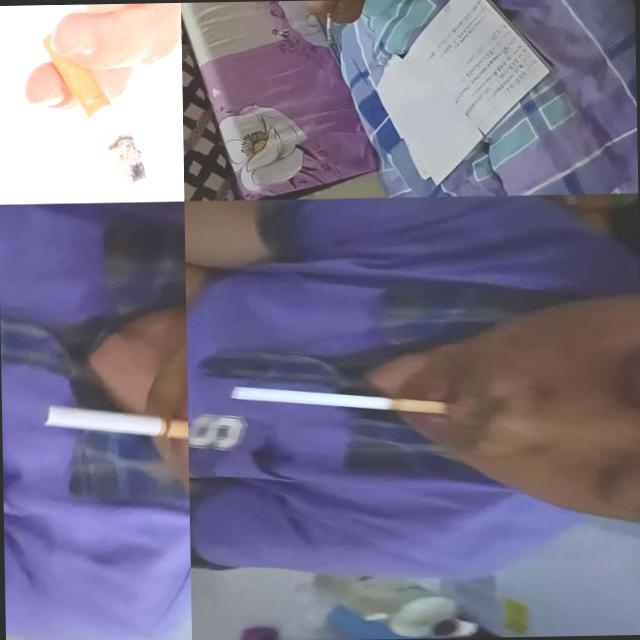cigarette: (41, 28, 148, 188), (225, 380, 454, 420), (42, 399, 188, 442), (324, 8, 332, 44)
